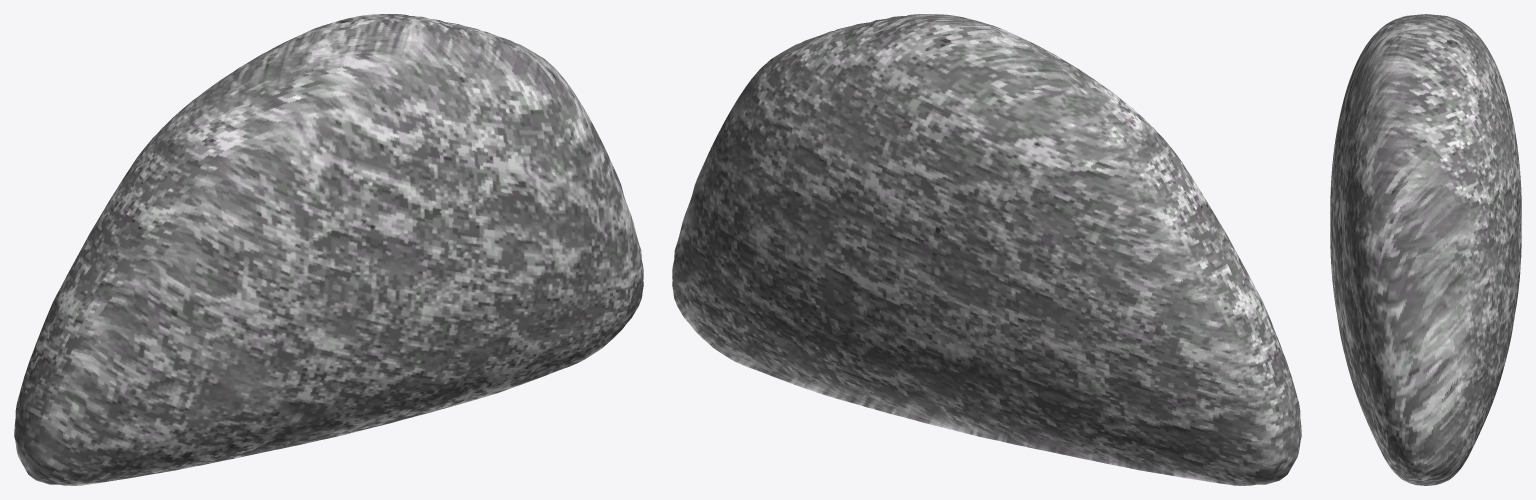
Rendered from darock.fbx.
3 views of the same model, side by side, from view 1: azimuth 30°, elevation 25°; view 2: azimuth 150°, elevation 25°; view 3: azimuth 270°, elevation 25° (orthographic). The views are drawn at different scales.
Visible parts, largest first — view 1: root; view 2: root; view 3: root.
Part boxes in pixels (<box>): root: <box>14,14,643,485</box>; root: <box>672,14,1301,485</box>; root: <box>1330,14,1521,485</box>.
Bounding box in the file's own units: 0.2809 × 0.1702 × 0.0819.
Materials: 1 (1 with a texture image).
